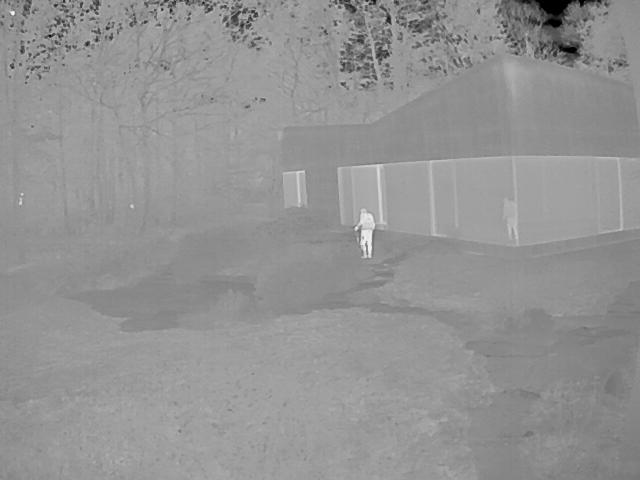person: (356, 207, 376, 258), (502, 198, 516, 242)
